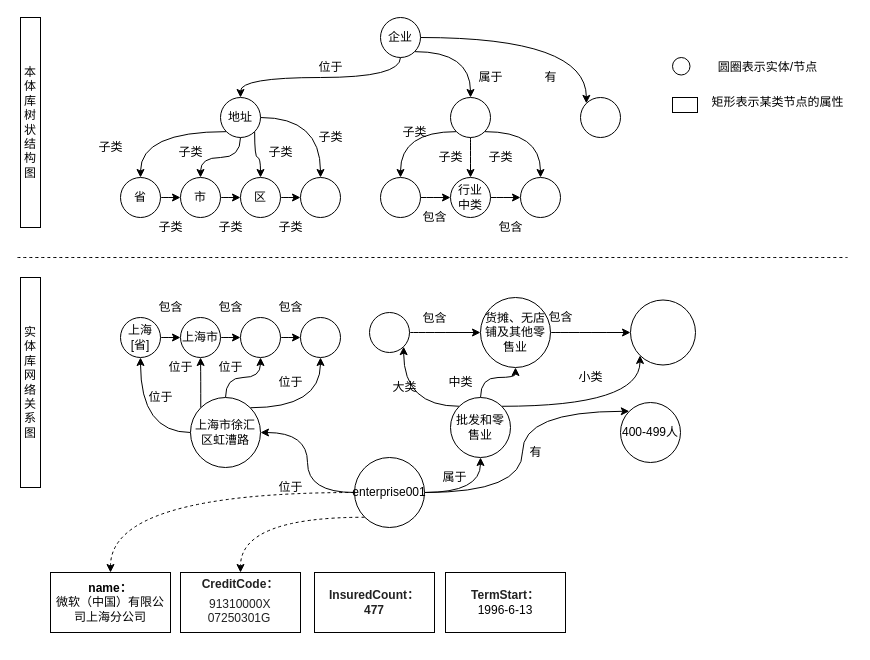
Image size: 870x660. Some labels were removed from this diagram. The shapes that lost their labels are listed below. From the top down, each one's centre as x and y in pixels, then its label:
At pixel 470 117: "行业".
At pixel 600 117: "规模".
At pixel 320 197: "街道".
At pixel 400 197: "行业 大类".
At pixel 540 197: "行业 小类".
At pixel 260 337: "徐汇区".
At pixel 320 337: "虹漕路".
At pixel 389 332: "零售业".
At pixel 663 332: "其他未列明零售业".
